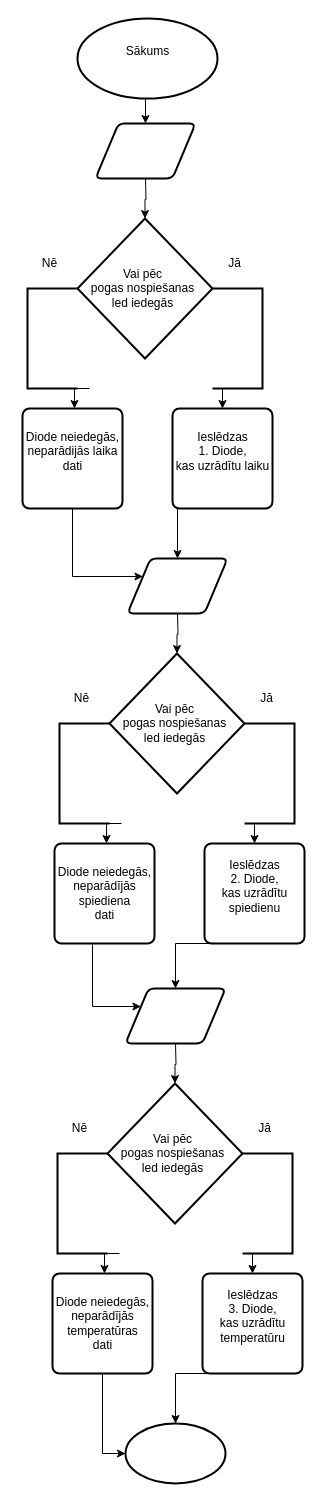
Image size: 322x1501. Some labels were removed from this diagram. Here are the shapes that lost their labels. From the top down, the centre of each, then its label:
At point (145, 150): "Spiežu 1.pogu".
At point (177, 585): "Spiežu 2.pogu".
At point (175, 1015): "Spiežu 3.pogu".
At point (175, 1453): "Beigas".
